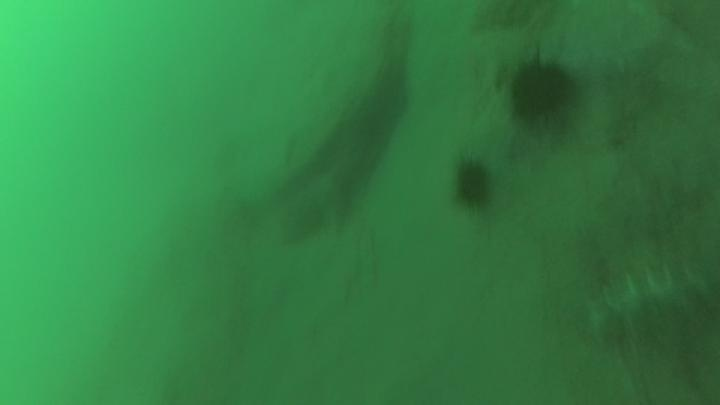echinus: (501, 48, 583, 132), (448, 152, 497, 216)
holothurian: (580, 261, 717, 345)
